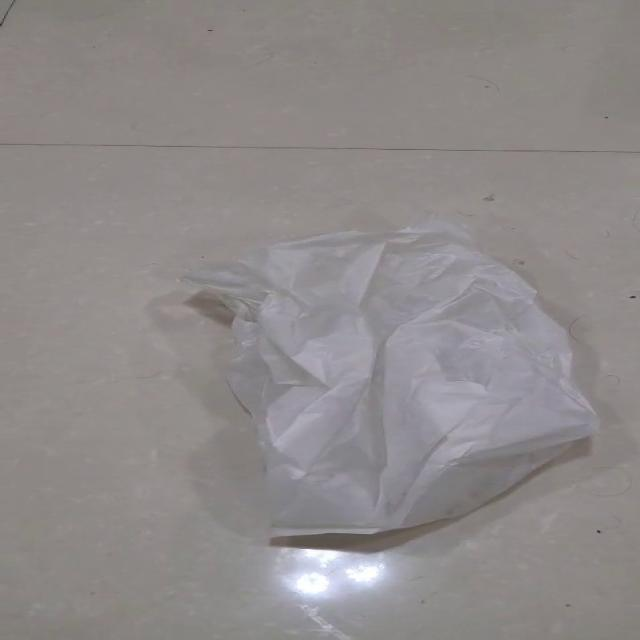plastic: (177, 216, 600, 536)
